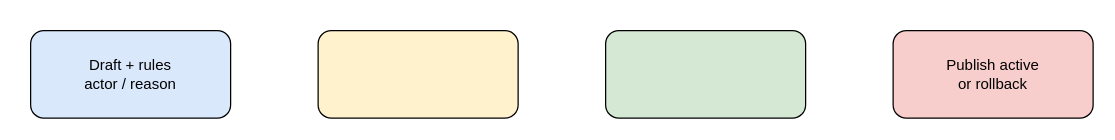
Image size: 1115x140. Some labels were removed from this diagram. The centre of each missing label's shape, as x and y in pixels:
"Shadow report / stop" goes at [705,73].
"Validate Preview / corpus" goes at [417,73].
